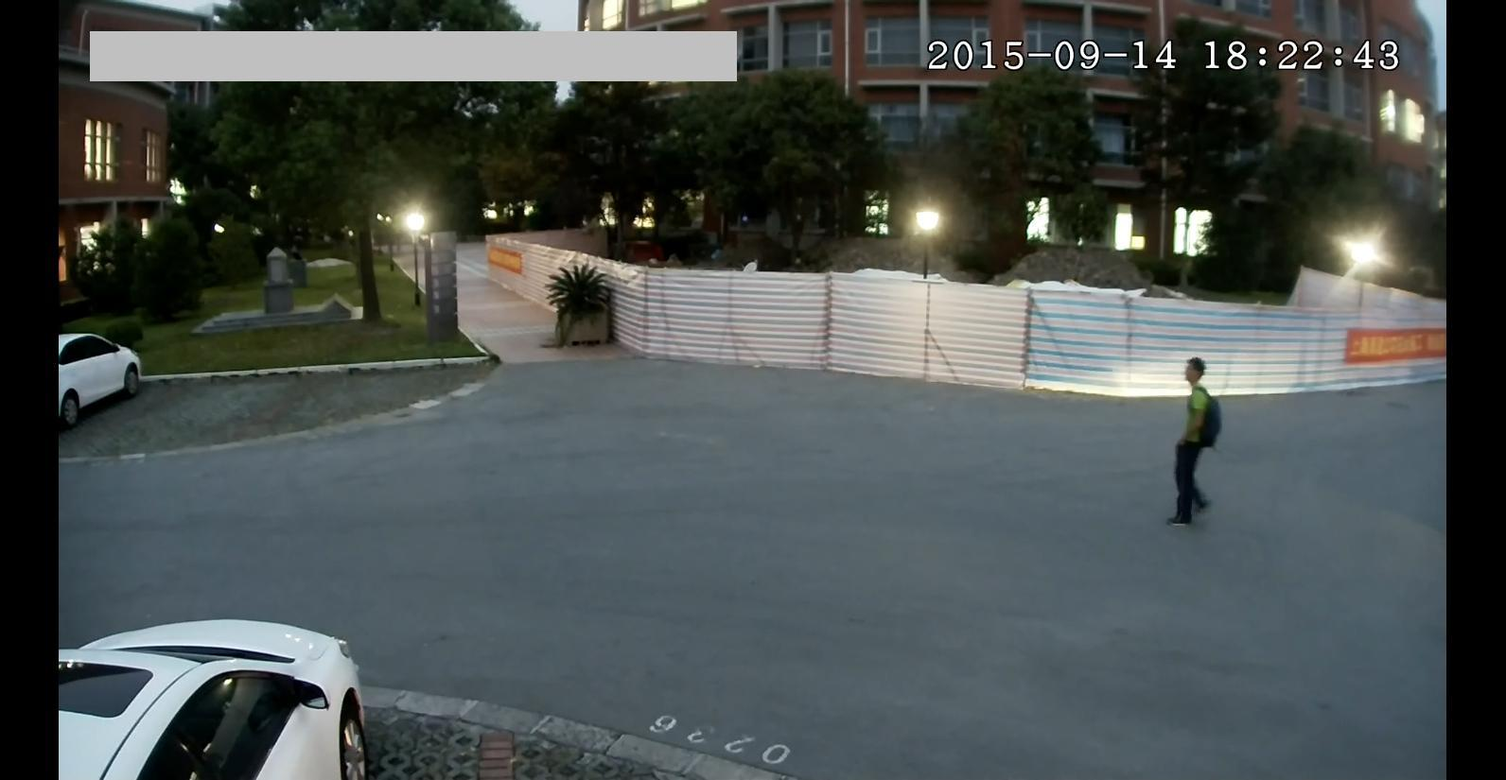person: (1165, 345, 1224, 527)
